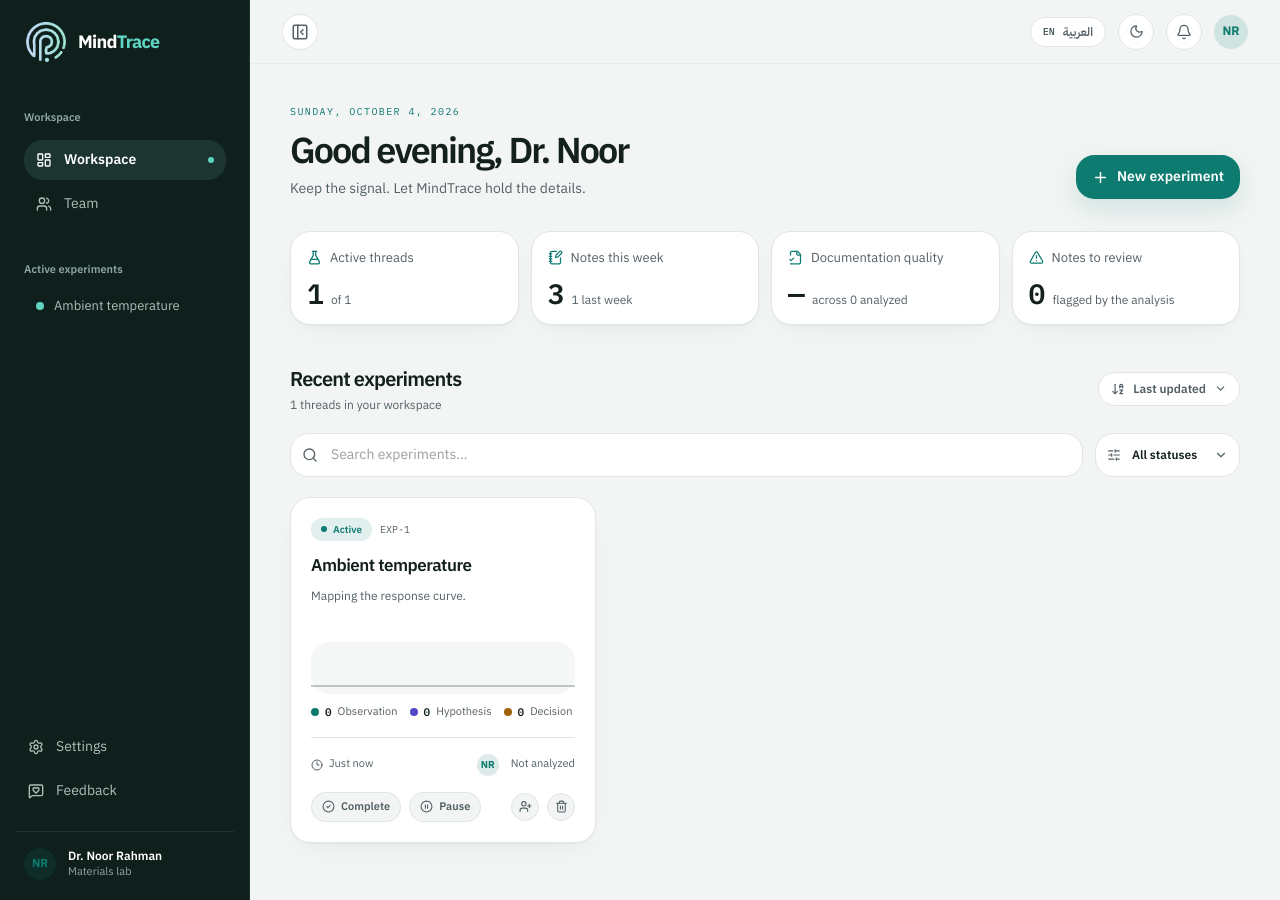
it: experiment card › snaps back and says so when the server refuses
Click the button with test id "button-complete-1": [356, 807] box [311,792,401,822]
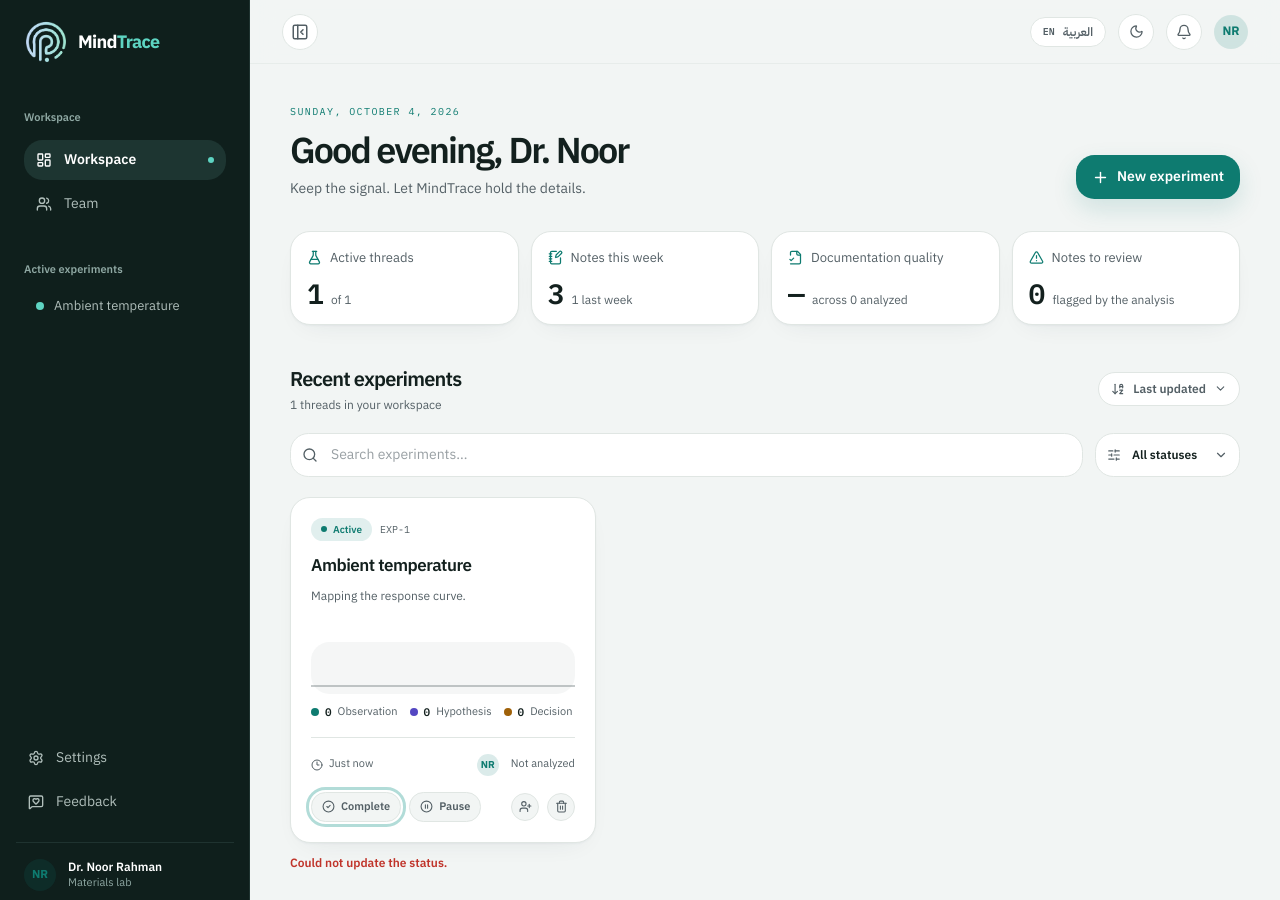
Check: the message "Could not update the status." is shown, box [290,854,447,872]
